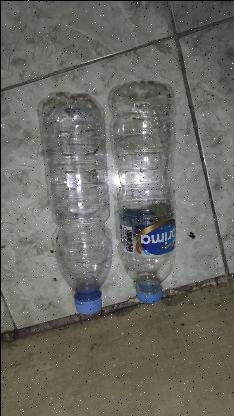Plastic Bottle: (38, 98, 113, 314), (106, 78, 176, 302)
